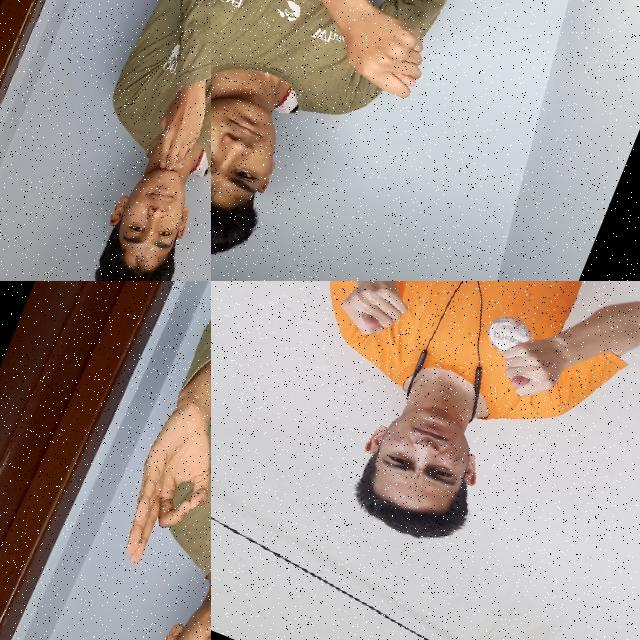Chin Flick: (76, 80, 211, 281)
Dulya: (479, 308, 586, 422), (328, 0, 442, 106), (324, 281, 428, 353)
Okay: (95, 366, 211, 589)
